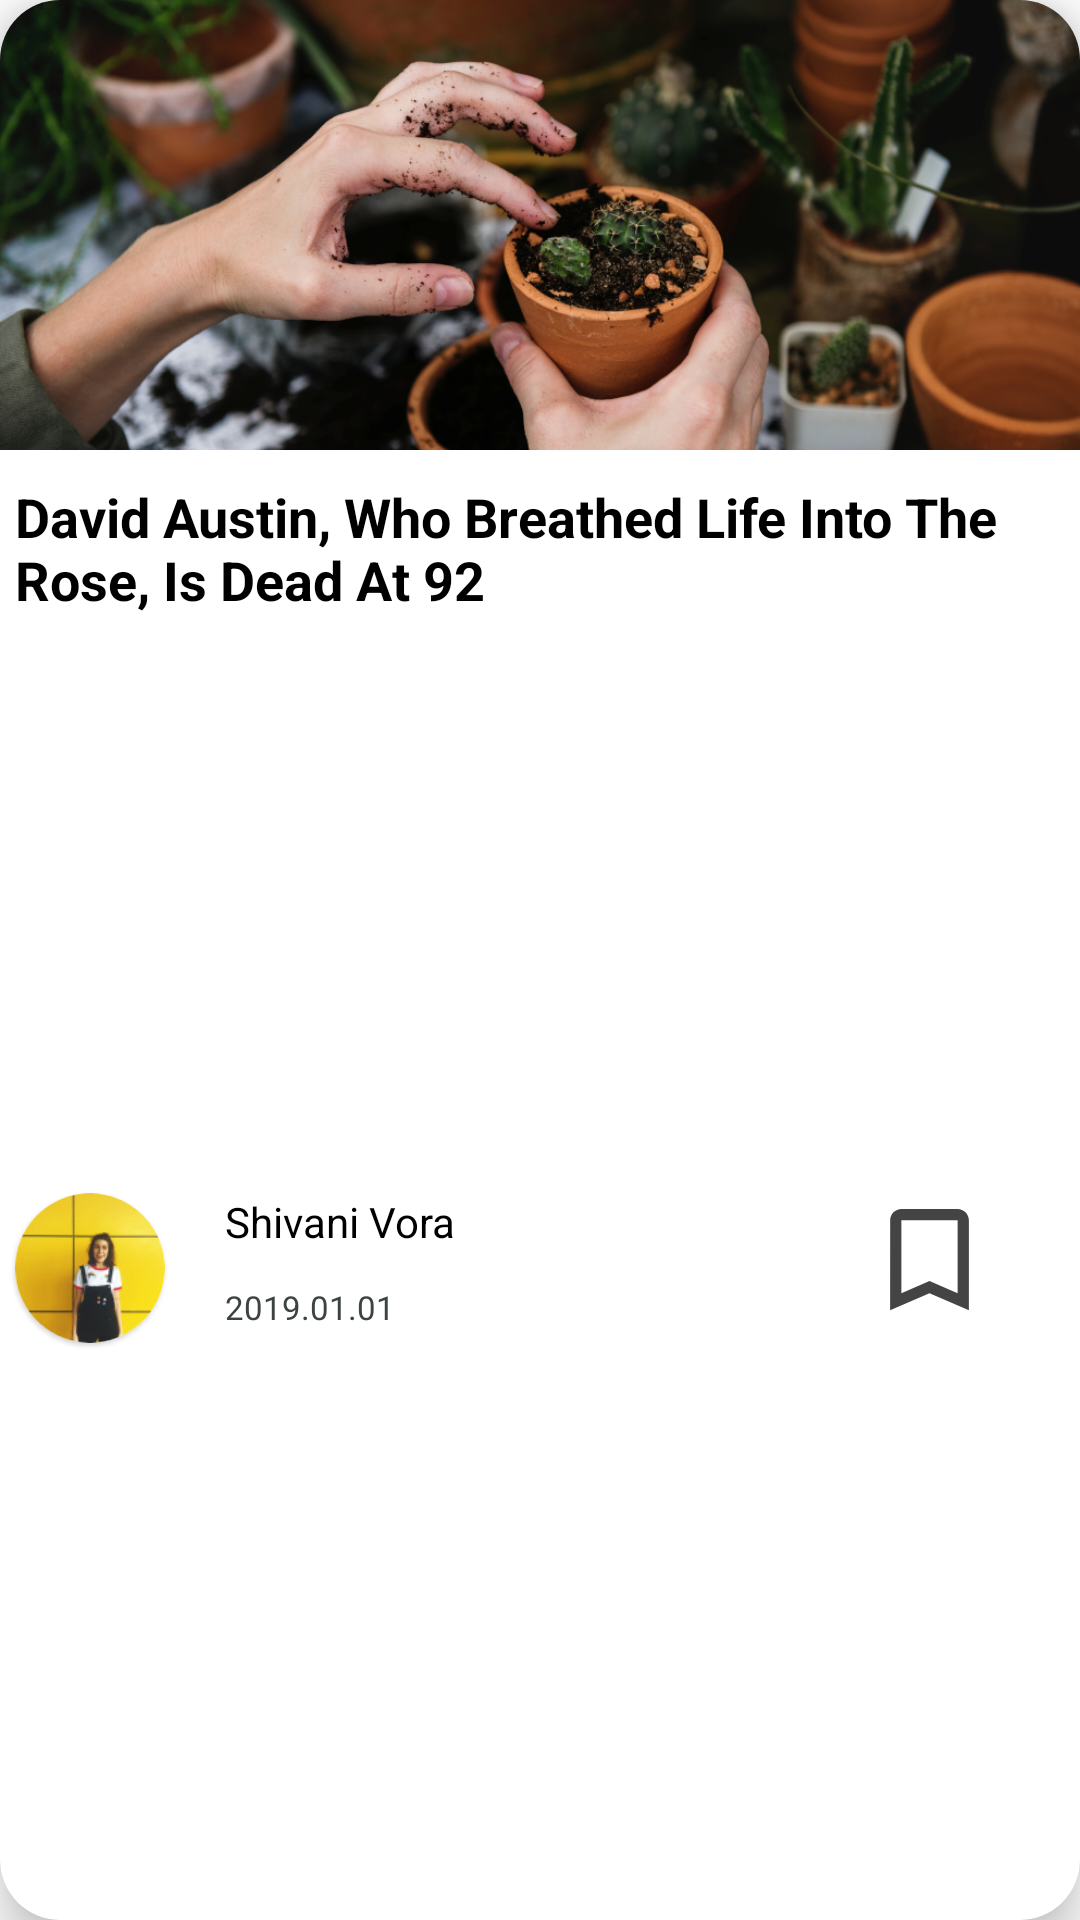

Icon click points for this 1080*1920 phone screenshot, format (x=x, y=y):
nobookmark: (x=929, y=1259)
profile: (x=90, y=1268)
